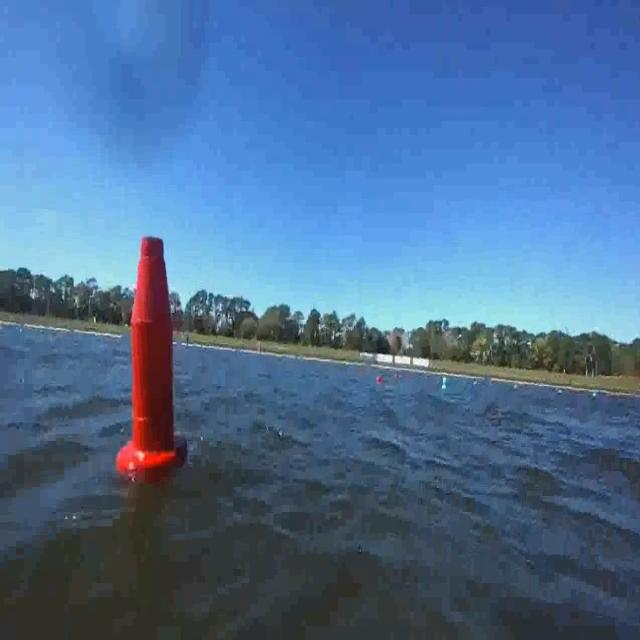red-column-buoy: (120, 232, 183, 475)
